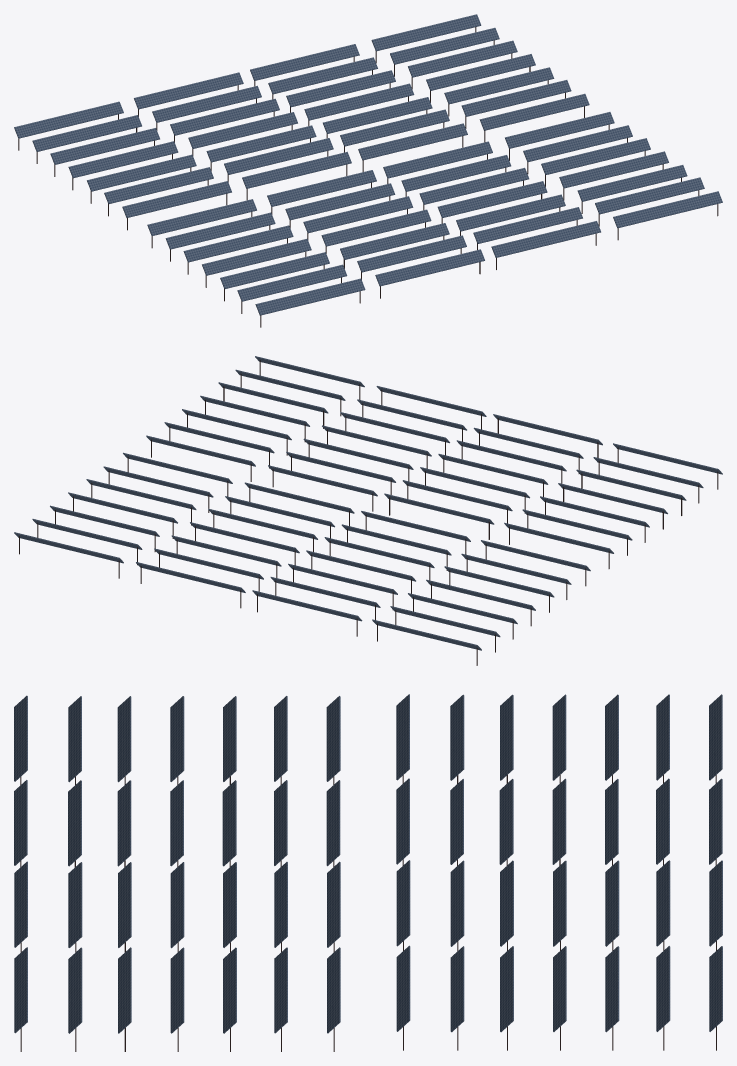
File: Solar_Power.glb
3 renders of one model, top to bottom at view 1: azimuth 30°, elevation 25°; view 2: azimuth 150°, elevation 25°; view 3: azimuth 270°, elevation 25°, orthographic. The views are drawn at different scales.
Parts seen in each view (by area): view 1: Floo1, Floor4, Floor2, floor3; view 2: Floo1, Floor4, Floor2, floor3; view 3: Floor4, floor3, Floo1, Floor2.
Part boxes in pixels (left/top/right/bottom): Floo1: left=14, top=101, right=365, bottom=327; Floor4: left=371, top=14, right=722, bottom=240; Floor2: left=134, top=72, right=484, bottom=298; floor3: left=250, top=44, right=600, bottom=269; Floo1: left=372, top=443, right=722, bottom=665; Floor4: left=14, top=356, right=364, bottom=578; Floor2: left=252, top=414, right=602, bottom=636; floor3: left=136, top=386, right=486, bottom=608; Floor4: left=14, top=945, right=722, bottom=1051; floor3: left=14, top=860, right=722, bottom=952; Floo1: left=14, top=694, right=722, bottom=784; Floor2: left=14, top=778, right=722, bottom=867.
Bounding box in the file's own units: 108 × 5.17 × 98.88.
Materials: 4 (4 with a texture image).
